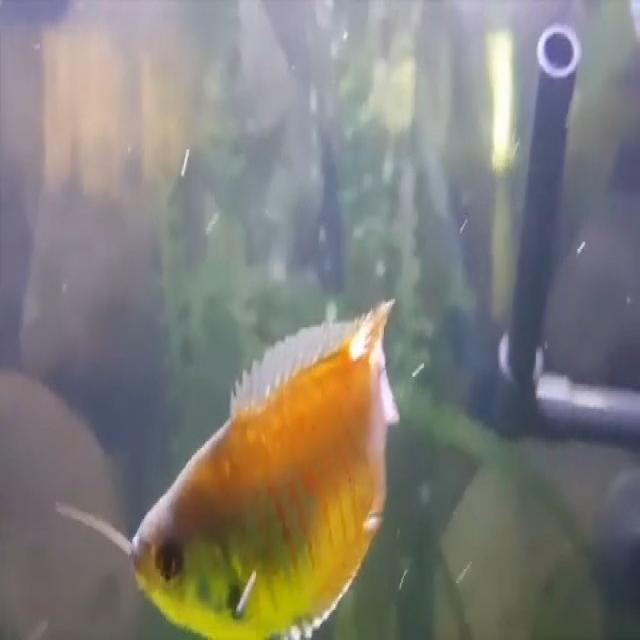fish: (122, 295, 403, 638)
